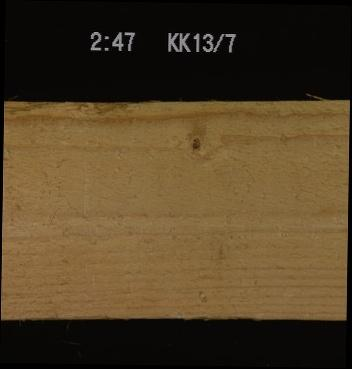dry_knot: (187, 132, 203, 155)
wave: (3, 100, 132, 116)
